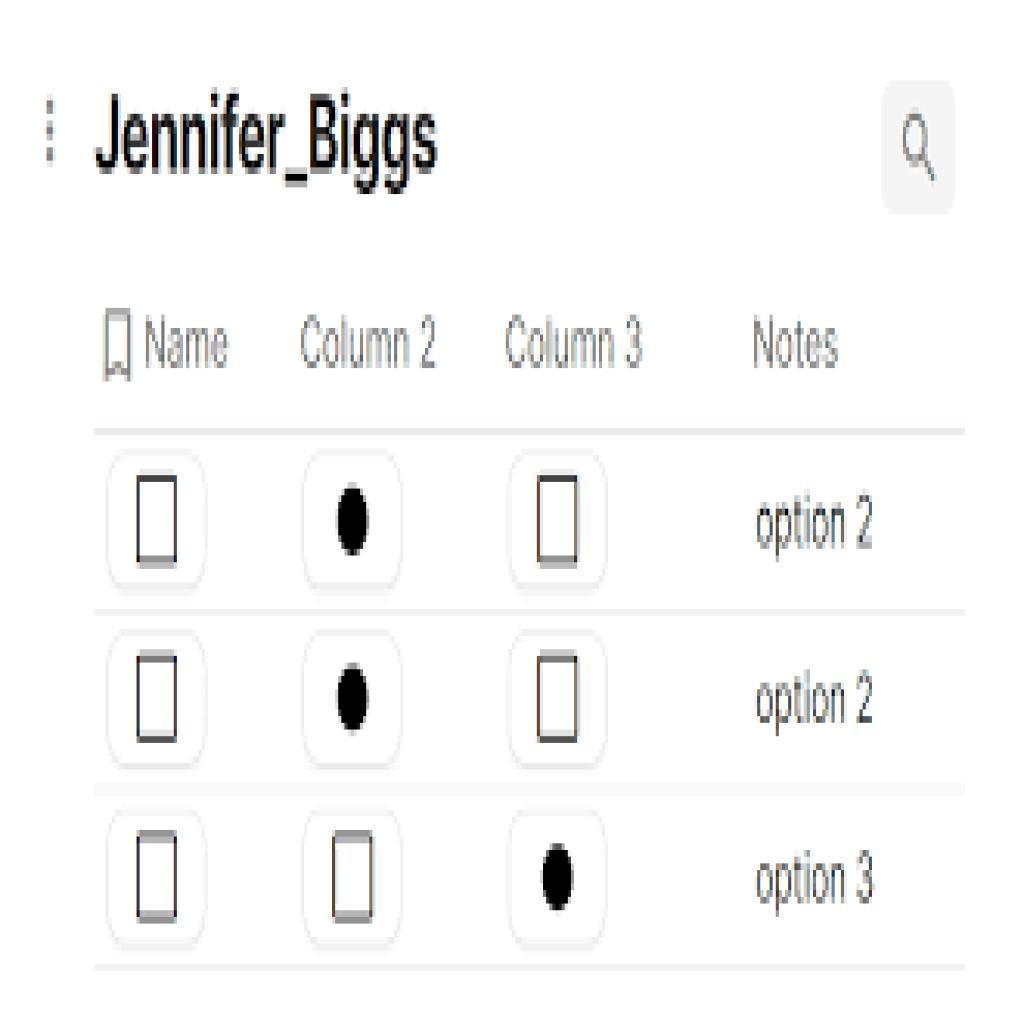checkbox: (536, 478, 581, 561), (332, 836, 375, 922), (135, 656, 178, 742), (138, 478, 180, 566), (135, 835, 178, 919), (539, 657, 580, 742)
icon: (896, 104, 947, 188), (96, 300, 143, 390), (32, 94, 73, 185)
radio: (536, 838, 584, 918), (334, 662, 377, 740), (335, 484, 377, 563)
